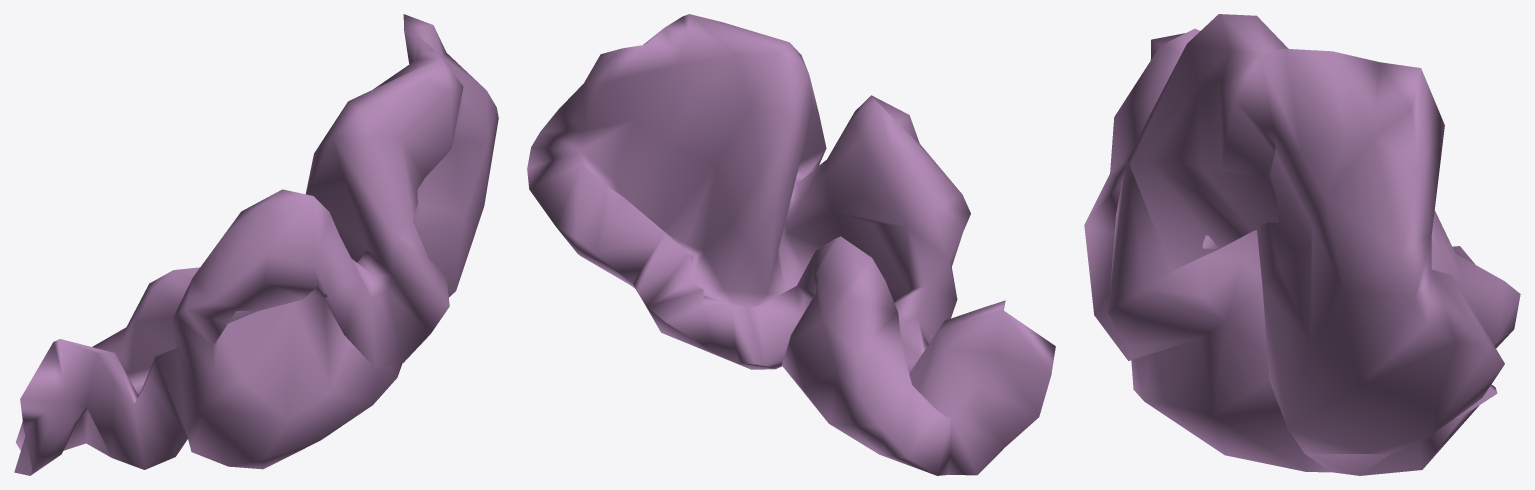
The picture shows the model from 3 angles, left to right: view 1: azimuth 30°, elevation 25°; view 2: azimuth 150°, elevation 25°; view 3: azimuth 270°, elevation 25°; orthographic projection. The views are drawn at different scales.
Parts seen in each view (by area): view 1: 左侧额缘回与额缘沟; view 2: 左侧额缘回与额缘沟; view 3: 左侧额缘回与额缘沟.
Boxes of the visible parts, x1,y1,x2,y2 form: 左侧额缘回与额缘沟: (14, 14, 498, 475); 左侧额缘回与额缘沟: (527, 14, 1055, 475); 左侧额缘回与额缘沟: (1084, 14, 1520, 475).
Bounding box in the file's own units: 0.0585 × 0.0395 × 0.029.
